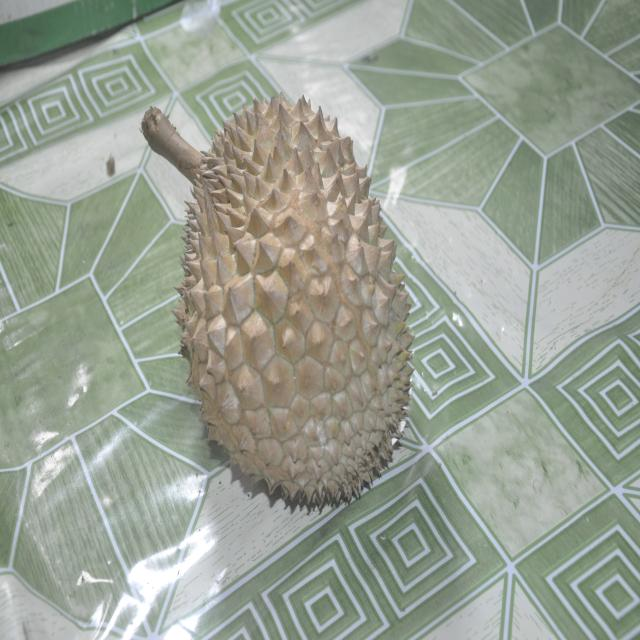mature: (142, 93, 413, 508)
